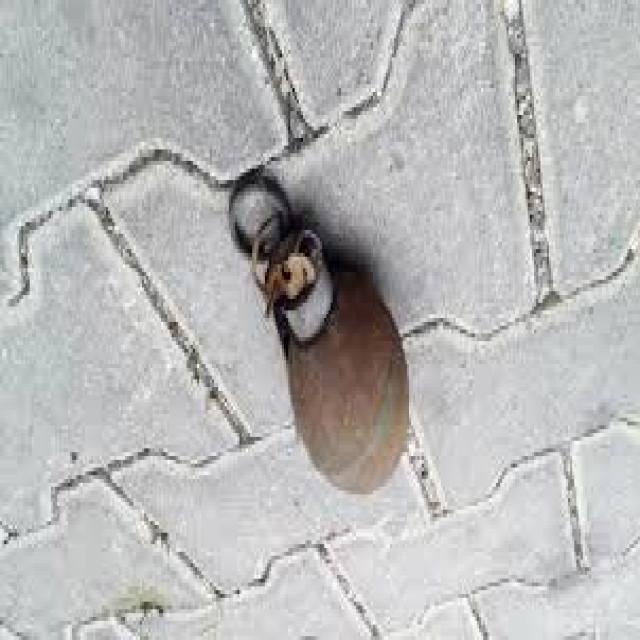grenade: (223, 164, 418, 508)
